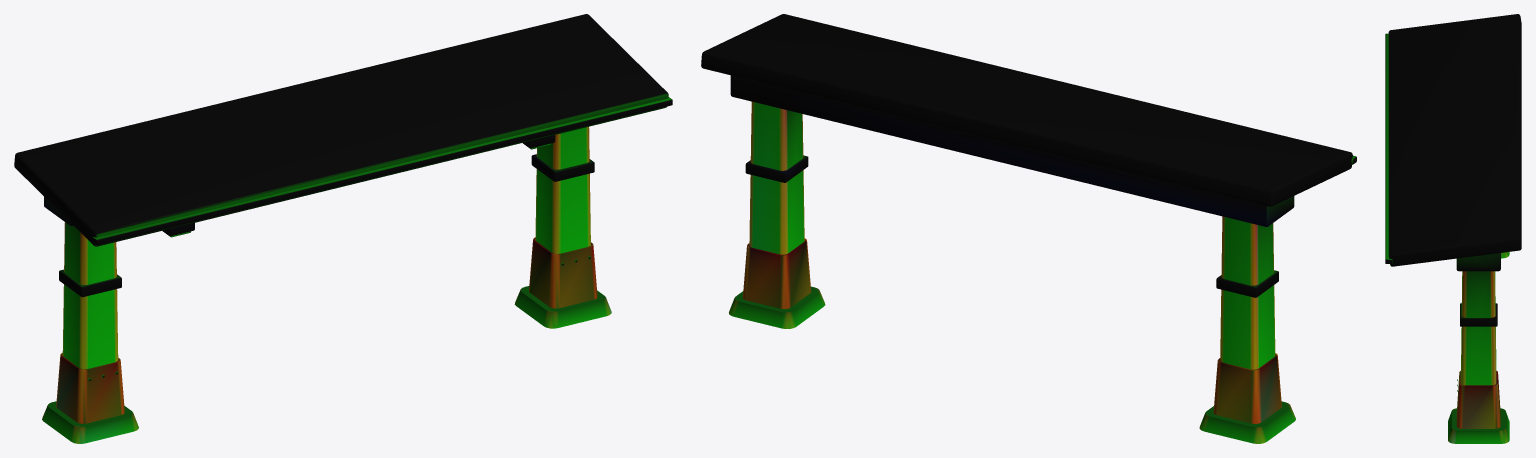
Rendered from hero_station_porch.glb.
The picture shows the model from 3 angles, left to right: view 1: azimuth 30°, elevation 25°; view 2: azimuth 150°, elevation 25°; view 3: azimuth 270°, elevation 25°; orthographic projection. The views are drawn at different scales.
Parts seen in each view (by area): view 1: HeroStationPorch; view 2: HeroStationPorch; view 3: HeroStationPorch.
Boxes of the visible parts, x1,y1,x2,y2 form: HeroStationPorch: [14, 14, 672, 443]; HeroStationPorch: [701, 14, 1356, 443]; HeroStationPorch: [1385, 14, 1521, 443].
Size of the model in its own units: 10.24 by 4.49 by 2.62.
